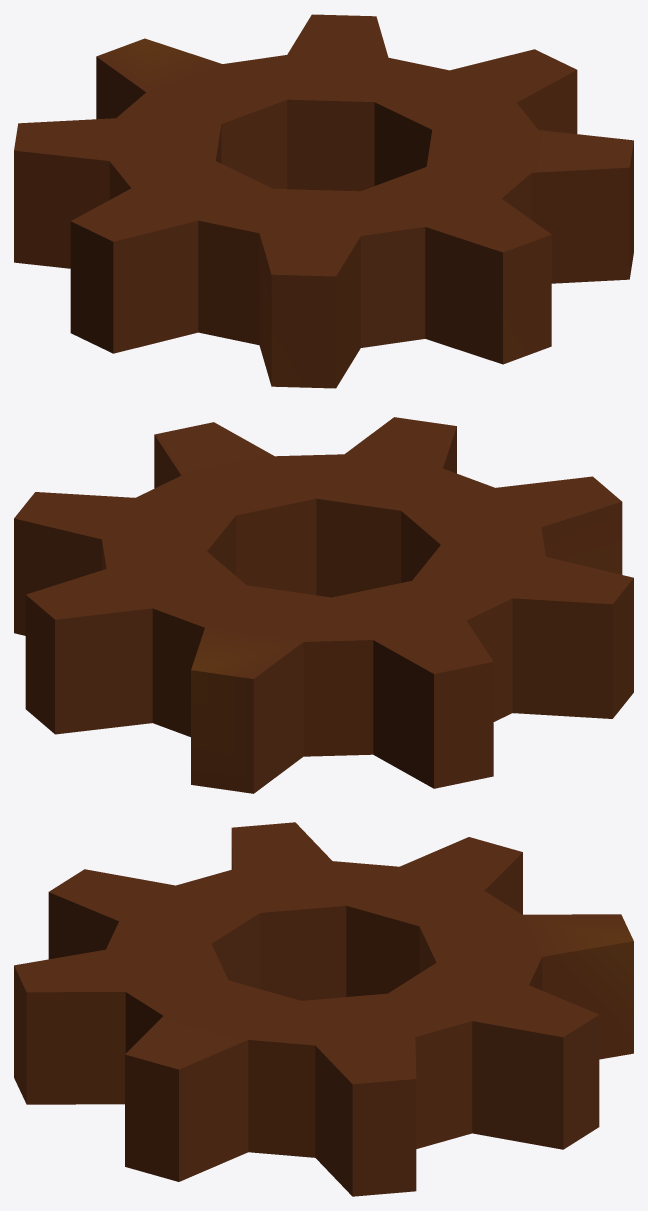
File: iron-gear.glb
3 views of the same model, one above another, from view 1: azimuth 30°, elevation 25°; view 2: azimuth 150°, elevation 25°; view 3: azimuth 270°, elevation 25° (orthographic). The views are drawn at different scales.
Parts seen in each view (by area): view 1: Cylinder.021; view 2: Cylinder.021; view 3: Cylinder.021.
Boxes of the visible parts, x1,y1,x2,y2 form: Cylinder.021: (14,14,633,388); Cylinder.021: (14,417,633,793); Cylinder.021: (14,822,633,1196).
Bounding box in the file's own units: 5 × 1 × 5.
